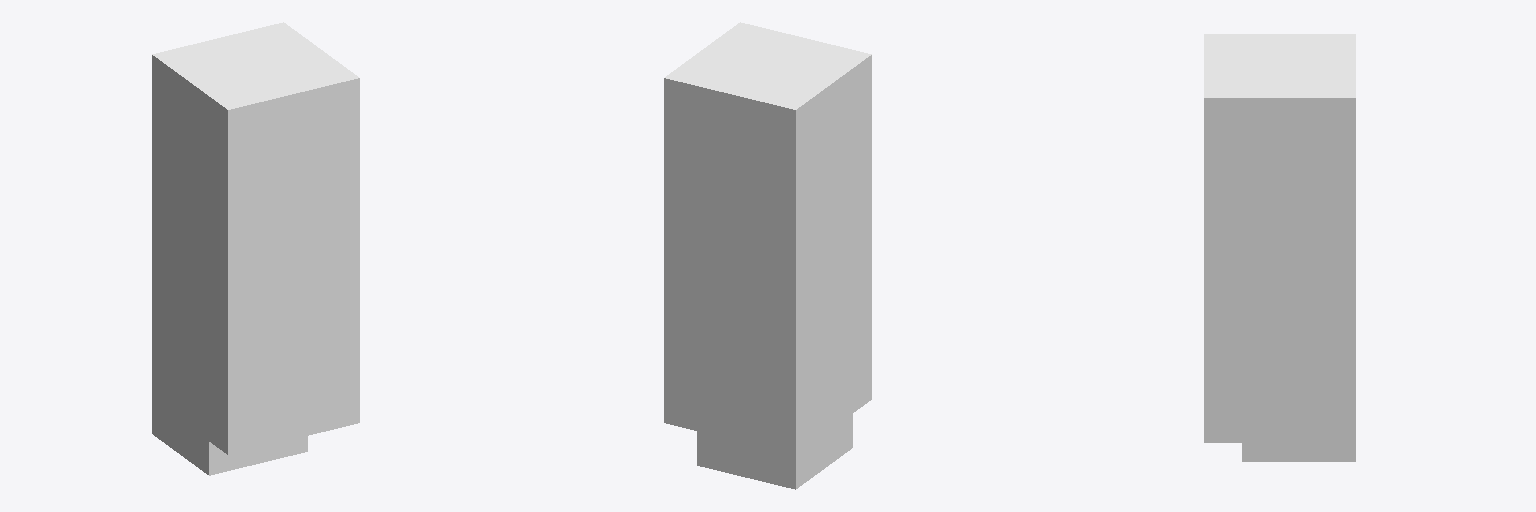
The model's file is a792_BasicGuard_Thigh_L.obj.
3 views of the same model, side by side, from view 1: azimuth 30°, elevation 25°; view 2: azimuth 150°, elevation 25°; view 3: azimuth 270°, elevation 25° (orthographic).
Bounding box in the file's own units: 4 × 11 × 4.